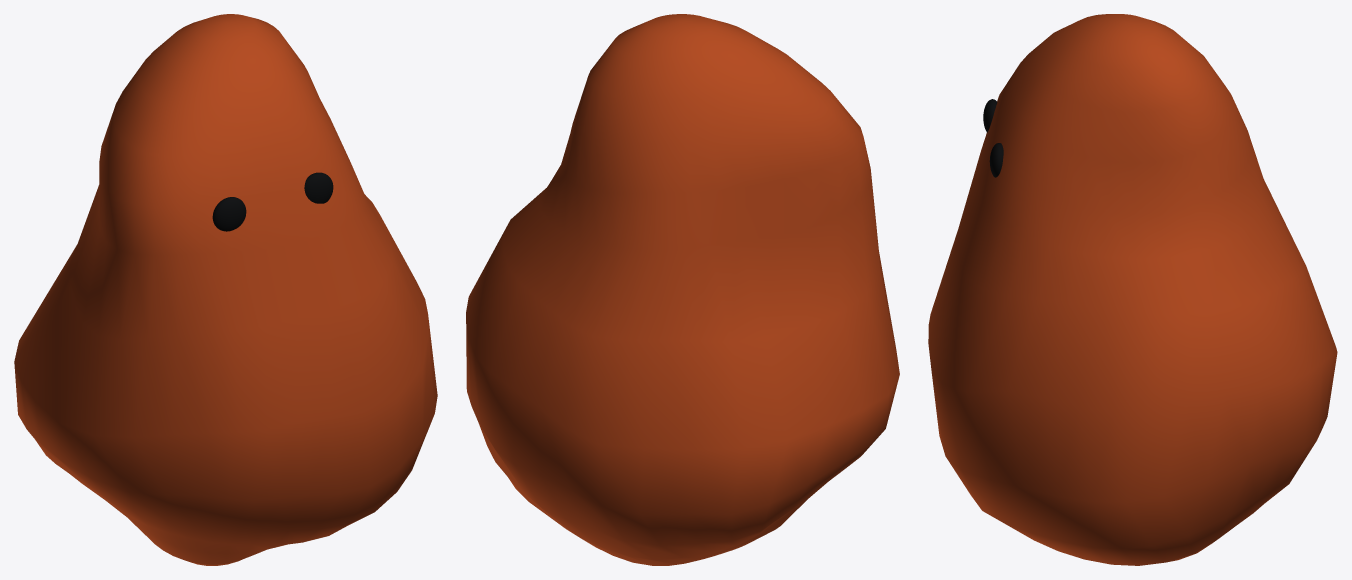
Rendered from firefighter-blob.glb.
3 views of the same model, side by side, from view 1: azimuth 30°, elevation 25°; view 2: azimuth 150°, elevation 25°; view 3: azimuth 270°, elevation 25° (orthographic).
Visible parts, largest first — view 1: Blob_Body, Eye_Left, Eye_Left.001; view 2: Blob_Body; view 3: Blob_Body.
Part boxes in pixels (x1,y1,x2,y2): Blob_Body: (14, 14, 437, 565); Eye_Left: (212, 197, 246, 231); Eye_Left.001: (304, 172, 333, 203); Blob_Body: (466, 14, 899, 565); Blob_Body: (928, 14, 1337, 565).
Size of the model in its own units: 2.12 by 2.76 by 1.98.
